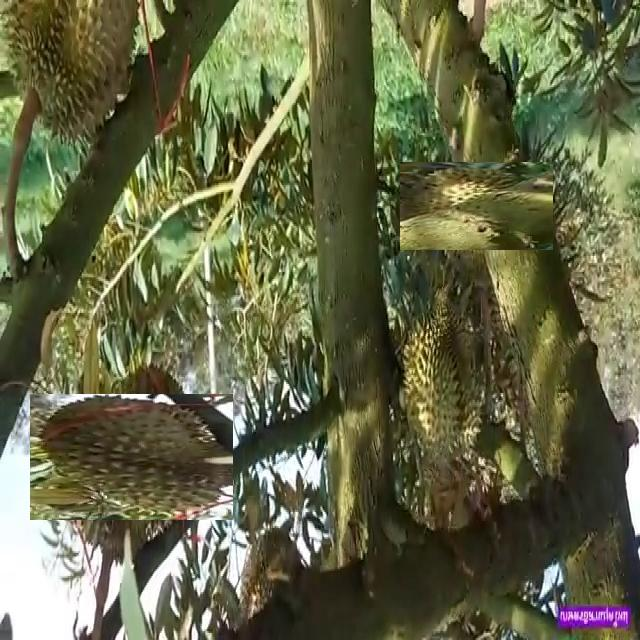durian: (49, 374, 214, 540), (3, 2, 145, 156), (402, 287, 489, 470), (416, 146, 537, 267)
